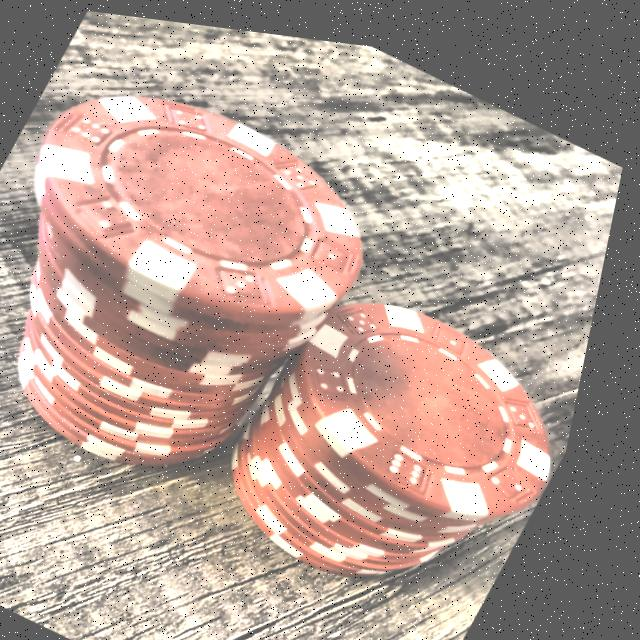Chip: (0, 24, 463, 547), (169, 224, 609, 638)
